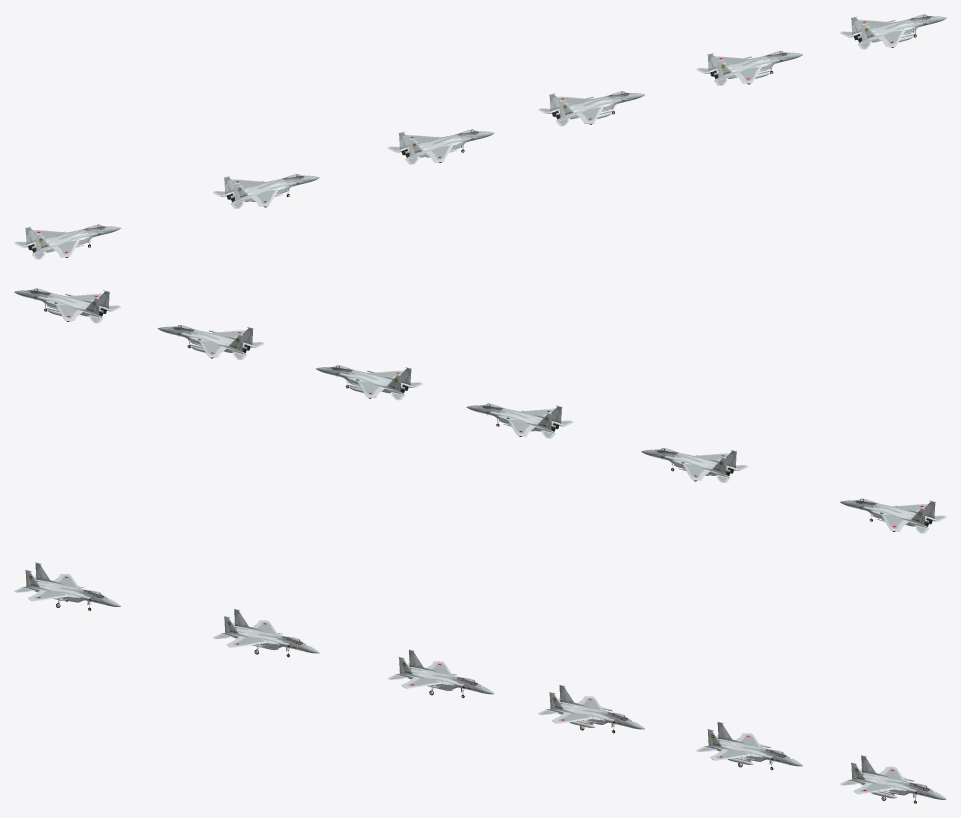
Rendered from f15jft2.glb.
3 renders of one model, top to bottom at view 1: azimuth 30°, elevation 25°; view 2: azimuth 150°, elevation 25°; view 3: azimuth 330°, elevation 25°, orthographic.
Visible parts, largest first — view 1: fuselage.002, fuselage.004, fuselage.003, fuselage.005, fuselage.001, fuselage; view 2: fuselage.002, fuselage.003, fuselage.004, fuselage.005, fuselage.001, fuselage; view 3: fuselage.002, fuselage.004, fuselage.003, fuselage.001, fuselage, fuselage.005.
Part boxes in pixels (x1,y1,x2,y2): fuselage.002: [387, 129, 494, 164]; fuselage.004: [14, 224, 120, 259]; fuselage.003: [213, 174, 319, 208]; fuselage.005: [840, 14, 946, 49]; fuselage.001: [696, 51, 802, 85]; fuselage: [538, 91, 644, 126]; fuselage.002: [466, 403, 573, 438]; fuselage.003: [641, 448, 747, 482]; fuselage.004: [840, 498, 946, 533]; fuselage.005: [14, 288, 120, 323]; fuselage.001: [158, 325, 264, 359]; fuselage: [316, 365, 422, 400]; fuselage.002: [387, 649, 494, 697]; fuselage.004: [14, 562, 120, 610]; fuselage.003: [213, 608, 319, 657]; fuselage.001: [696, 721, 802, 770]; fuselage: [538, 684, 644, 733]; fuselage.005: [840, 755, 946, 803].
Bounding box in the file's own units: 169 × 6.95 × 11.7.
31 materials, 2 textured.
